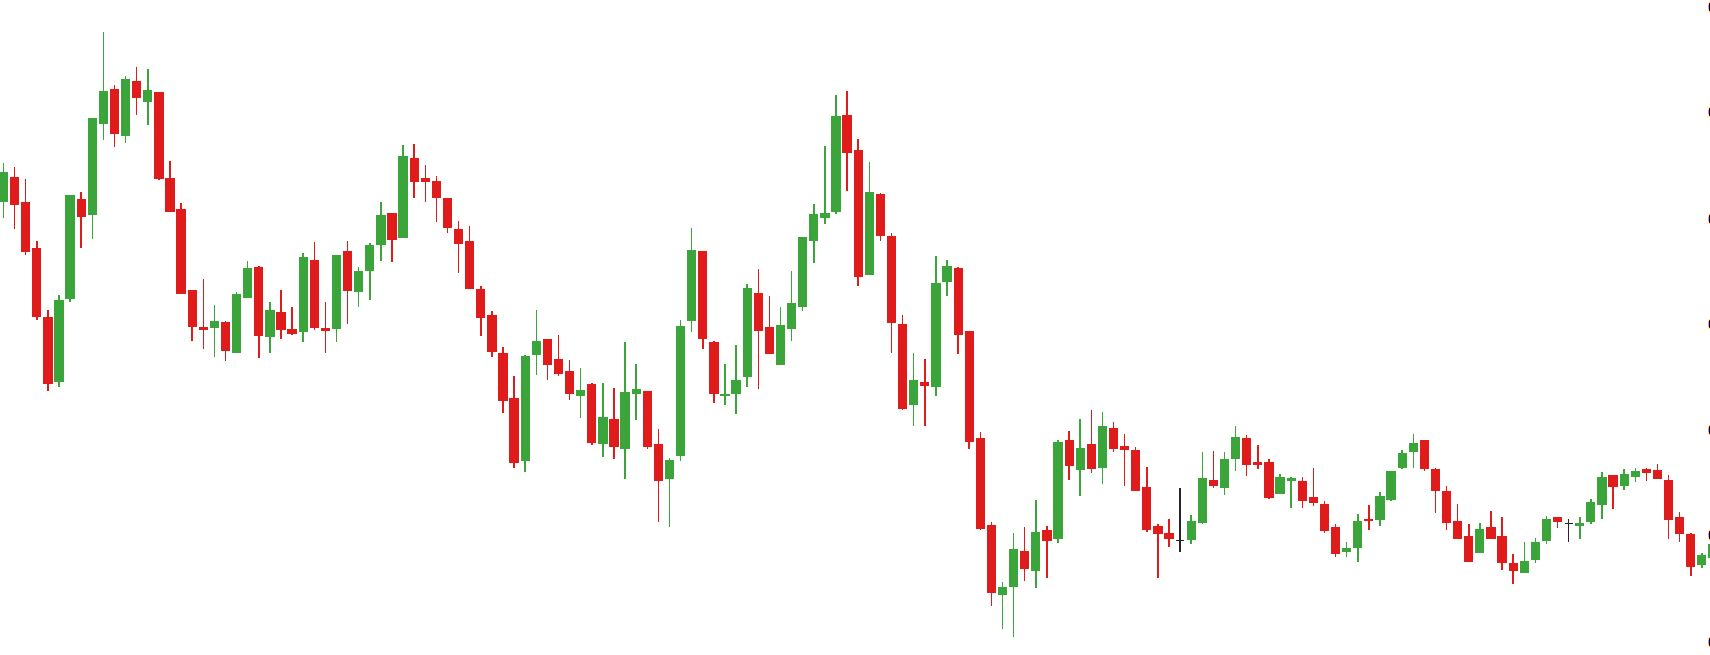sell: (685, 83, 865, 343)
